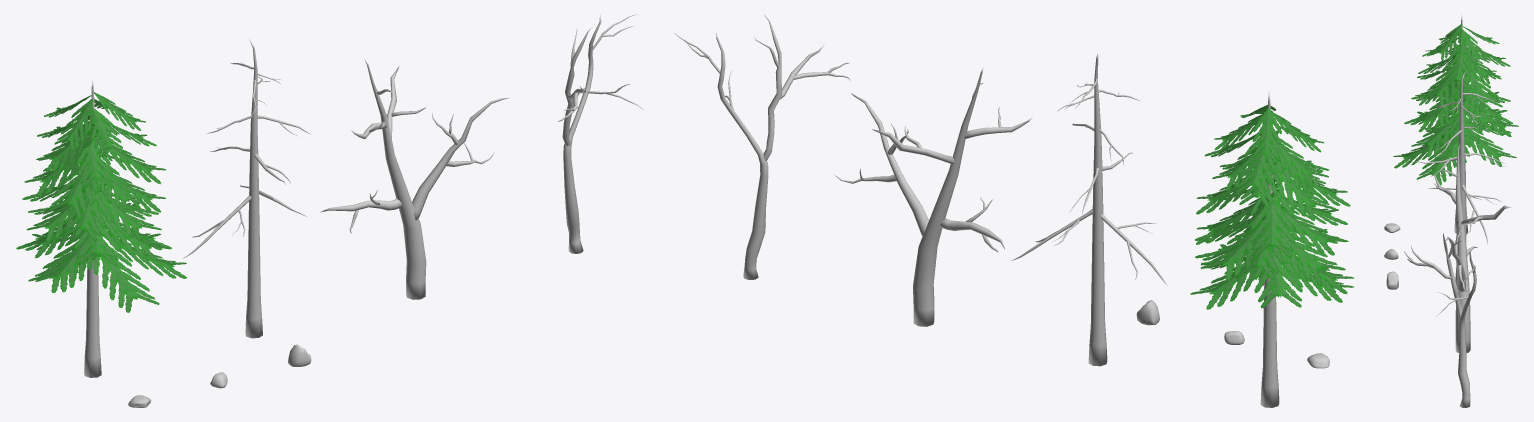
File: Vegetação.fbx
The picture shows the model from 3 angles, left to right: view 1: azimuth 30°, elevation 25°; view 2: azimuth 150°, elevation 25°; view 3: azimuth 270°, elevation 25°; orthographic projection. The views are drawn at different scales.
Visible parts, largest first — view 1: arvore.comfolhas, arvore2, arvore1, arvore3; view 2: arvore.comfolhas, arvore2, arvore1, arvore3; view 3: arvore.comfolhas, arvore2, arvore3, arvore1, Pedra3.
Part boxes in pixels (<box>): arvore.comfolhas: <box>16,79,186,377</box>; arvore2: <box>319,58,508,299</box>; arvore1: <box>182,39,311,338</box>; arvore3: <box>558,14,642,253</box>; arvore.comfolhas: <box>1190,91,1353,407</box>; arvore2: <box>835,67,1032,326</box>; arvore1: <box>1010,52,1167,366</box>; arvore3: <box>674,14,850,279</box>; arvore.comfolhas: <box>1393,14,1518,234</box>; arvore2: <box>1433,144,1511,352</box>; arvore3: <box>1404,233,1476,407</box>; arvore1: <box>1414,72,1507,284</box>; Pedra3: <box>1386,271,1398,289</box>.
Size of the model in its own units: 3853 by 1753 by 984.
